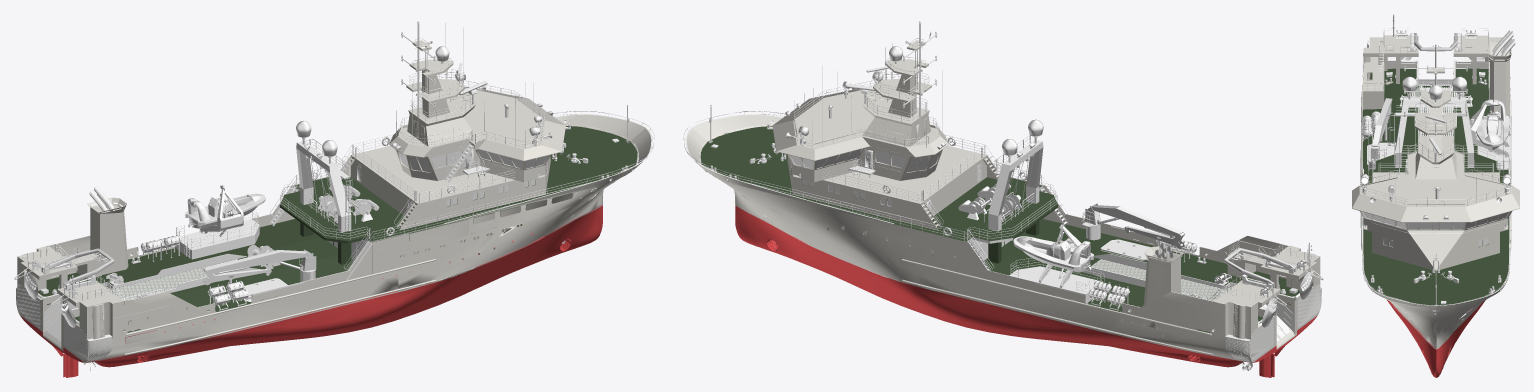
File: trawler-stern.glb
3 views of the same model, side by side, from view 1: azimuth 30°, elevation 25°; view 2: azimuth 150°, elevation 25°; view 3: azimuth 270°, elevation 25° (orthographic). The views are drawn at different scales.
Parts seen in each view (by area): view 1: Object_203, Object_6, Object_374, Object_192, Object_440, Object_73; view 2: Object_203, Object_6, Object_374, Object_192, Object_440, Object_73; view 3: Object_203, Object_6, Object_374, Object_192, Object_440, Object_73.
Part boxes in pixels (x1=…): Object_203: x1=16, y1=40, x2=652, y2=362; Object_6: x1=14, y1=21, x2=654, y2=371; Object_374: x1=38, y1=126, x2=637, y2=332; Object_192: x1=20, y1=204, x2=602, y2=377; Object_440: x1=398, y1=149, x2=548, y2=206; Object_73: x1=48, y1=248, x2=114, y2=284; Object_203: x1=686, y1=31, x2=1320, y2=362; Object_6: x1=683, y1=21, x2=1323, y2=370; Object_374: x1=700, y1=126, x2=1299, y2=332; Object_192: x1=735, y1=205, x2=1317, y2=377; Object_440: x1=790, y1=148, x2=940, y2=206; Object_73: x1=1223, y1=248, x2=1289, y2=283; Object_203: x1=1352, y1=35, x2=1519, y2=349; Object_6: x1=1360, y1=14, x2=1515, y2=354; Object_374: x1=1362, y1=68, x2=1510, y2=313; Object_192: x1=1386, y1=299, x2=1485, y2=377; Object_440: x1=1363, y1=212, x2=1508, y2=246; Object_73: x1=1414, y1=33, x2=1457, y2=51.
Size of the model in its own units: 124 by 52.01 by 30.44.
